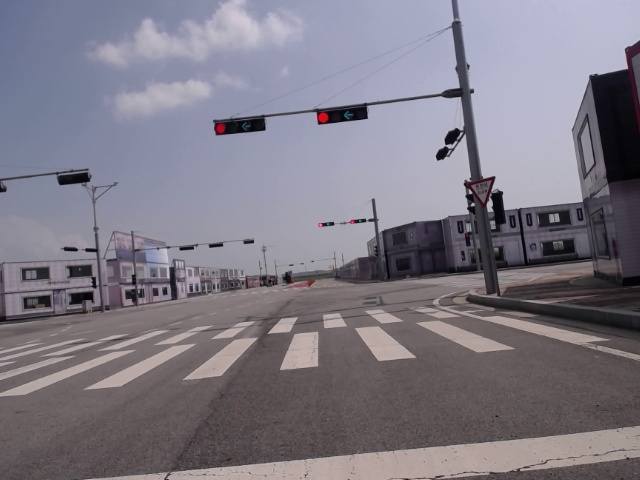left_green_4: (216, 117, 263, 136), (319, 107, 365, 123)
